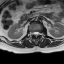CCS_normal: (35, 30, 37, 39)
LFS_normal: (39, 31, 41, 36)
LLS_normal: (37, 30, 39, 37)
RFS_normal: (31, 30, 33, 36)
RLS_normal: (33, 30, 35, 37)
